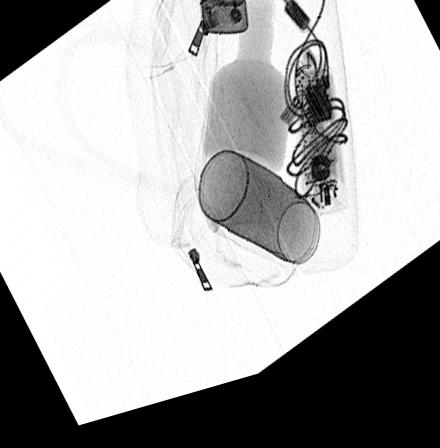Lighter: (199, 0, 248, 48)
